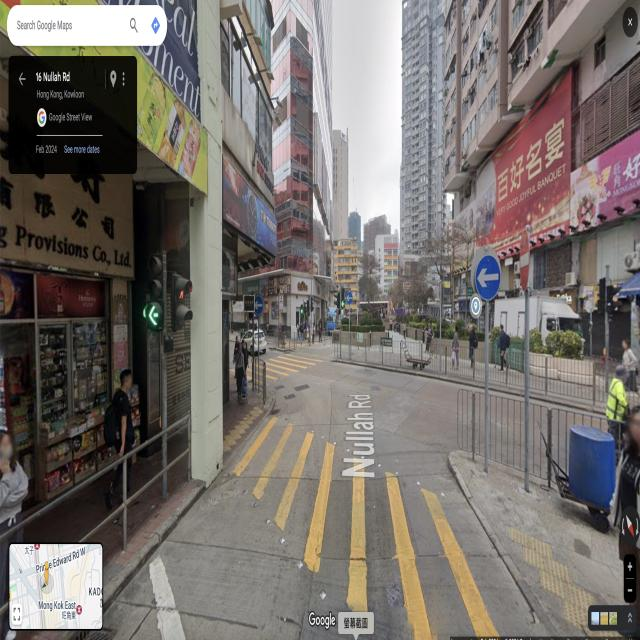Order-Sign: (476, 255, 500, 300), (520, 229, 530, 290), (255, 295, 263, 316), (346, 290, 353, 306)
